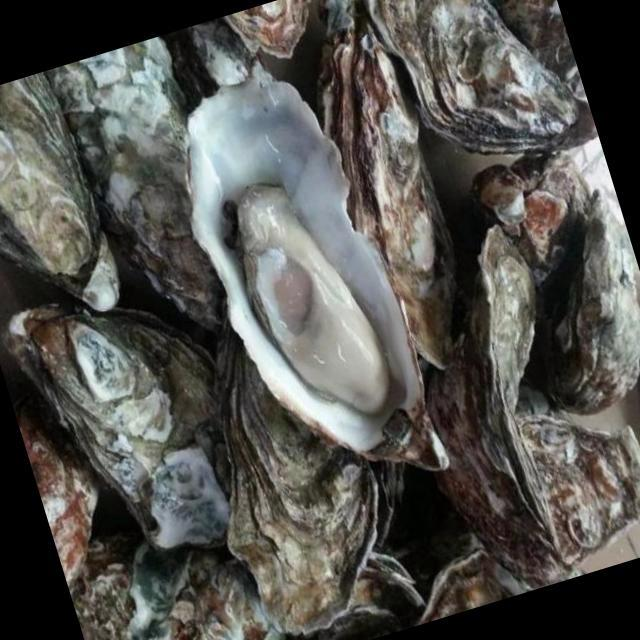Oyster-Closed: (200, 285, 416, 640), (303, 0, 481, 383), (0, 296, 241, 561), (36, 29, 238, 339), (426, 219, 587, 595), (361, 0, 602, 160), (0, 70, 129, 318), (455, 146, 591, 340), (67, 526, 291, 640), (0, 360, 106, 596), (539, 179, 640, 425), (512, 404, 640, 572), (266, 548, 439, 640), (406, 535, 535, 628), (477, 0, 584, 104), (216, 0, 314, 65), (178, 16, 256, 90)
Oyster-Open: (173, 55, 452, 484)
